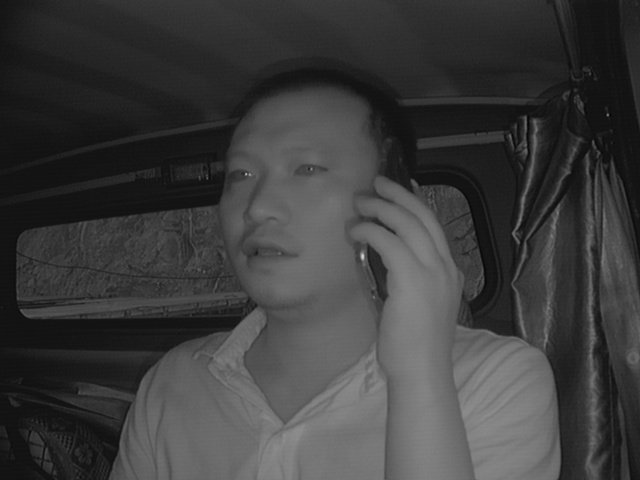hand: (351, 175, 477, 375)
